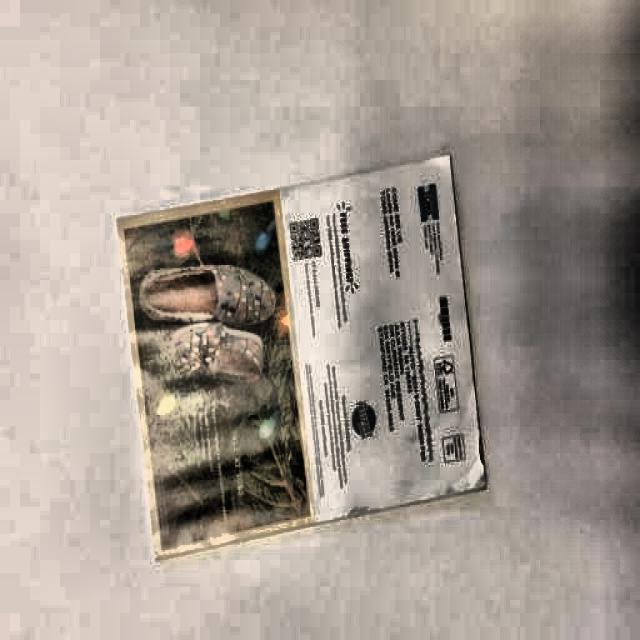paper: (111, 152, 488, 558)
